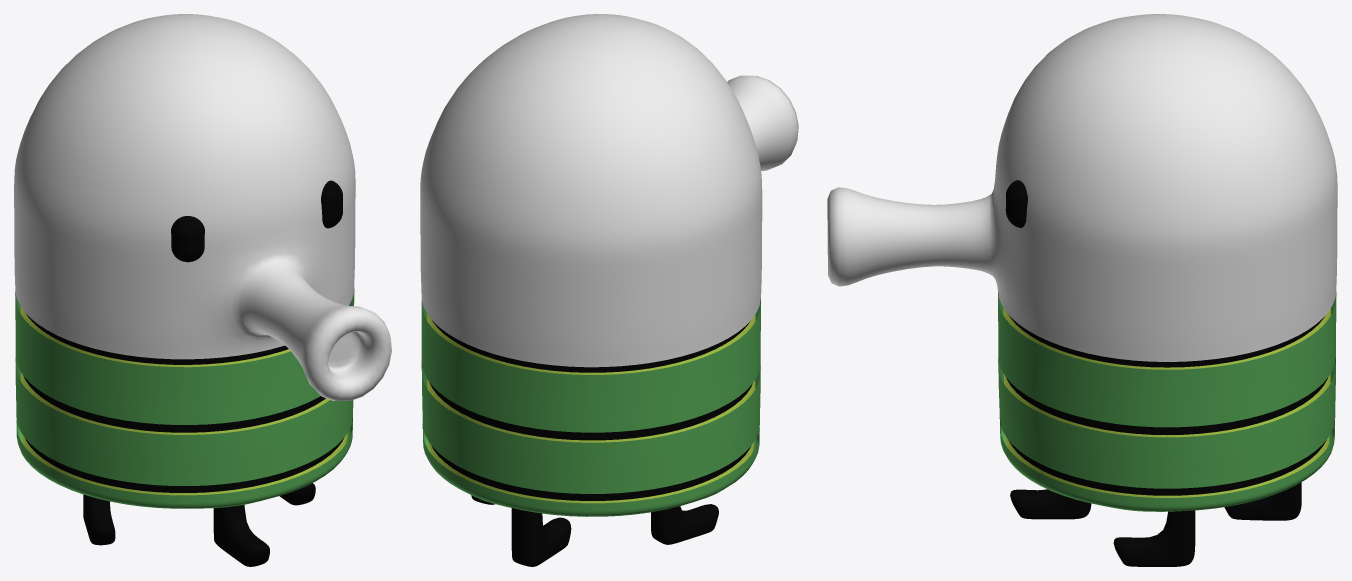
The model's file is player2.fbx.
The picture shows the model from 3 angles, left to right: view 1: azimuth 30°, elevation 25°; view 2: azimuth 150°, elevation 25°; view 3: azimuth 270°, elevation 25°; orthographic projection.
Visible parts, largest first — view 1: Sphere, Cube.001, Sphere.001, Cube.003, Cube.004; view 2: Sphere, Cube.002, Cube.003; view 3: Sphere, Cube.004, Cube.001, Cube.002, Sphere.001.
Boxes of the visible parts, box(x1,y1,x2,y2) form: Sphere: box(14, 14, 391, 508); Cube.001: box(213, 504, 269, 566); Sphere.001: box(171, 180, 342, 262); Cube.003: box(83, 494, 115, 545); Cube.004: box(279, 483, 315, 505); Sphere: box(420, 14, 798, 516); Cube.002: box(511, 508, 571, 566); Cube.003: box(651, 504, 718, 544); Sphere: box(827, 14, 1337, 511); Cube.004: box(1113, 510, 1195, 566); Cube.001: box(1010, 489, 1091, 519); Cube.002: box(1224, 482, 1301, 520); Sphere.001: box(1005, 180, 1027, 227).
Size of the model in its own units: 195 by 306 by 290.
